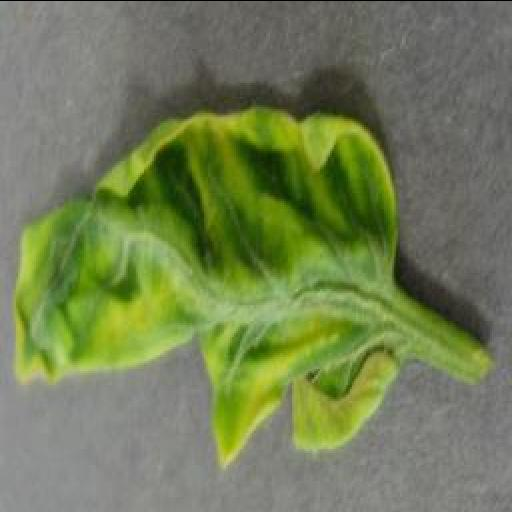disease_tomato: (12, 104, 394, 473)
